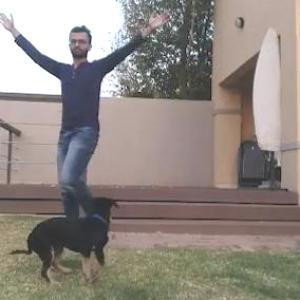takeoff: (0, 10, 164, 245)
